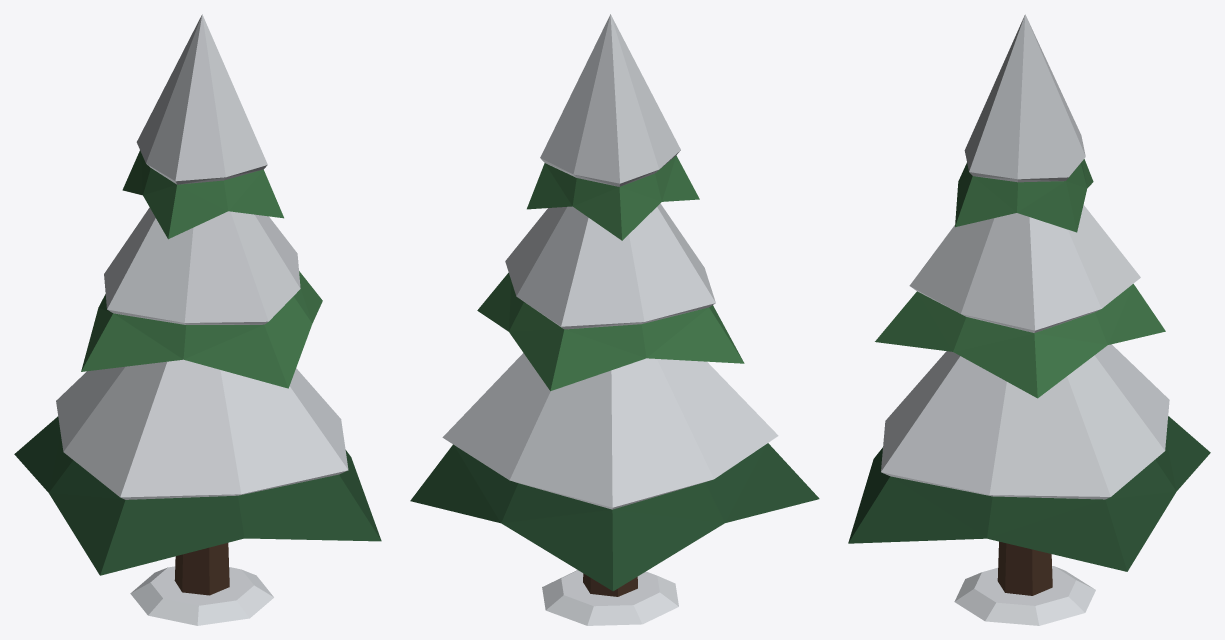
Rendered from pine_c.glb.
The picture shows the model from 3 angles, left to right: view 1: azimuth 30°, elevation 25°; view 2: azimuth 150°, elevation 25°; view 3: azimuth 270°, elevation 25°; orthographic projection.
Parts seen in each view (by area): view 1: Tree; view 2: Tree; view 3: Tree.
Part boxes in pixels (box(x1,y1,x2,y2)): Tree: box(14, 14, 381, 625); Tree: box(410, 14, 819, 625); Tree: box(848, 14, 1210, 625).
Bounding box in the file's own units: 2.19 × 4 × 2.26.
